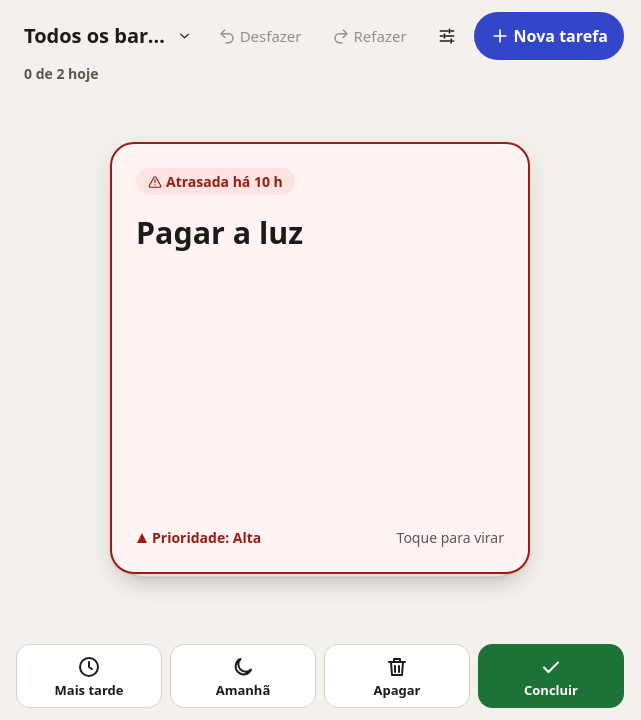
Test: App deck › completes a one-off task with the button: it leaves the deck
What coordinates should you click on to do the following:
click the button "Concluir"
I would click on:
 (551, 676)
Its box is [478,644,624,708].
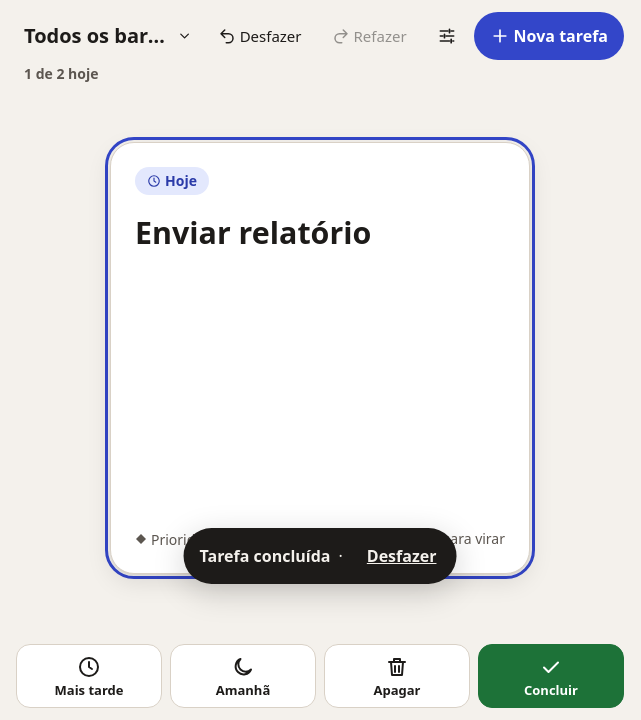
Check: the element with test id "undo-toast" shows "Tarefa concluída", box [200,545,330,567]
